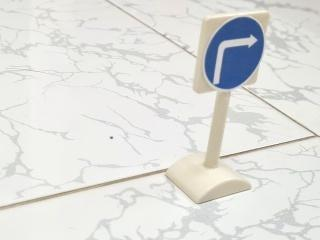right: (179, 6, 277, 99)
